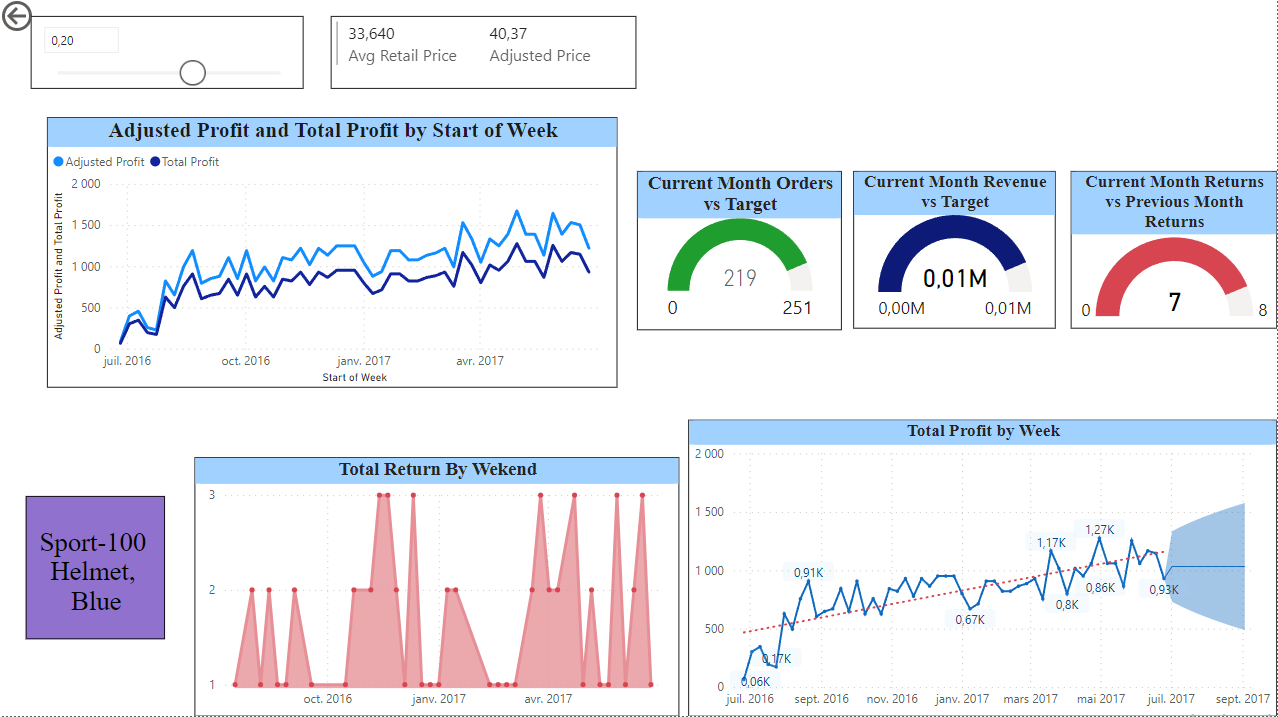

This screenshot's page, from the dashboard's own definition file:
{"tool":"powerbi","page":{"name":"Products Details","canvas":[1280,720],"ordinal":1},"visuals":[{"type":"lineChart","title":"Total Profit by Week","fields":{"Y":["A Measure Table.Total Profit"],"Category":["Calendar_Lookup.Start of Week"]},"box":[691.4,423.3,588.9,296.7],"z":0},{"type":"stackedAreaChart","title":"Total Return By Wekend","fields":{"Category":["Calendar_Lookup.Start of Week"],"Y":["A Measure Table.Total Returns"]},"box":[197.8,460.7,484.8,259.3],"z":1000},{"type":"gauge","title":"Current Month Orders vs Target","fields":{"Y":["A Measure Table.Total Orders By Line"],"MaxValue":["A Measure Table.Order Target"]},"box":[639.5,174.7,205.1,159],"z":2000},{"type":"gauge","title":"Current Month Revenue vs Target","fields":{"Y":["A Measure Table.Total revenue Measures"],"MaxValue":["A Measure Table.Revenue Target"]},"box":[856.7,174.7,202.7,157.8],"z":3000},{"type":"gauge","title":"Current Month Returns vs Previous Month Returns","fields":{"Y":["A Measure Table.Total Returns"],"MaxValue":["A Measure Table.Prev Month Returns"]},"box":[1074,174.7,206.3,157.8],"z":4000},{"type":"card","fields":{"Values":["Min(product_Lookup.ProductName)"]},"box":[29.1,500,139.6,143.2],"z":5000},{"type":"actionButton","box":[0,0,100,40],"z":6000},{"type":"slicer","fields":{"Values":["Price Adjustment (%).Price Adjustment (%)"]},"box":[34,19.4,273,72.8],"z":7000},{"type":"multiRowCard","fields":{"Values":["A Measure Table.Avg Retail Price","A Measure Table.Adjusted Price"]},"box":[333.7,19.4,305.8,72.8],"z":8000},{"type":"lineChart","fields":{"Y":["A Measure Table.Adjusted Profit","A Measure Table.Total Profit"],"Category":["Calendar_Lookup.Start of Week"]},"box":[49.8,121.4,570.3,270.6],"z":9000}]}

Visuals, with their boxes on the page's 1280x720 design canvas (x1, y1, x2, y2). These are canvas units, not pixel positions in the 1278x717 screenshot, which may show the page scaled, cropped or inside an application window:
"Total Profit by Week" lineChart: [x1=691, y1=423, x2=1280, y2=720]
"Total Return By Wekend" stackedAreaChart: [x1=198, y1=461, x2=683, y2=720]
"Current Month Orders vs Target" gauge: [x1=640, y1=175, x2=845, y2=334]
"Current Month Revenue vs Target" gauge: [x1=857, y1=175, x2=1059, y2=332]
"Current Month Returns vs Previous Month Returns" gauge: [x1=1074, y1=175, x2=1280, y2=332]
card - Min(product_Lookup.ProductName): [x1=29, y1=500, x2=169, y2=643]
actionButton: [x1=0, y1=0, x2=100, y2=40]
slicer - Price Adjustment (%).Price Adjustment (%): [x1=34, y1=19, x2=307, y2=92]
multiRowCard - A Measure Table.Avg Retail Price x A Measure Table.Adjusted Price: [x1=334, y1=19, x2=640, y2=92]
lineChart - A Measure Table.Adjusted Profit x A Measure Table.Total Profit: [x1=50, y1=121, x2=620, y2=392]
